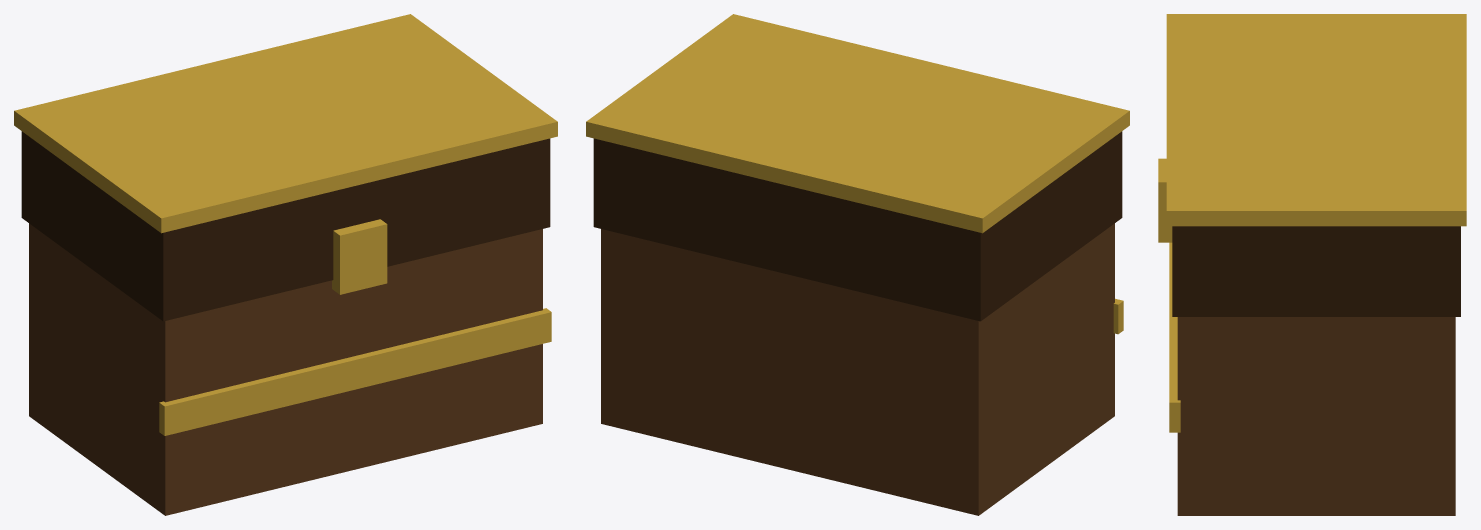
The model's file is chest.glb.
3 renders of one model, left to right at view 1: azimuth 30°, elevation 25°; view 2: azimuth 150°, elevation 25°; view 3: azimuth 270°, elevation 25°, orthographic.
Visible parts, largest first — view 1: base, lid_band, lid_m, trimF, lock; view 2: base, lid_band, lid_m; view 3: lid_band, base, lid_m, trimF, lock.
Part boxes in pixels (x1,y1,x2,y2): base: (29,223,542,515); lid_band: (14,14,557,233); lid_m: (21,131,550,321); trimF: (159,308,551,435); lock: (332,219,387,294); base: (601,223,1114,515); lid_band: (586,14,1129,233); lid_m: (593,131,1122,321); lid_band: (1166,14,1466,226); base: (1177,317,1455,515); lid_m: (1172,226,1460,316); trimF: (1169,242,1180,432); lock: (1158,158,1172,242).
Size of the model in its own units: 0.84 by 0.615 by 0.555.
